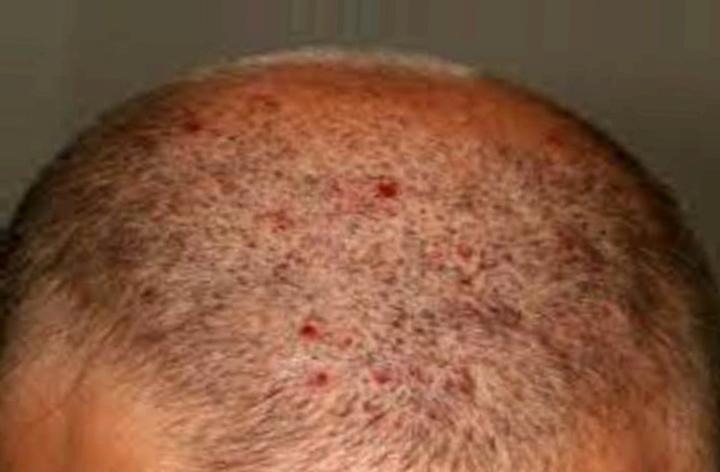Folliculitis: (288, 321, 336, 355), (364, 173, 407, 203), (308, 365, 344, 396), (362, 367, 408, 387), (174, 121, 213, 140)
